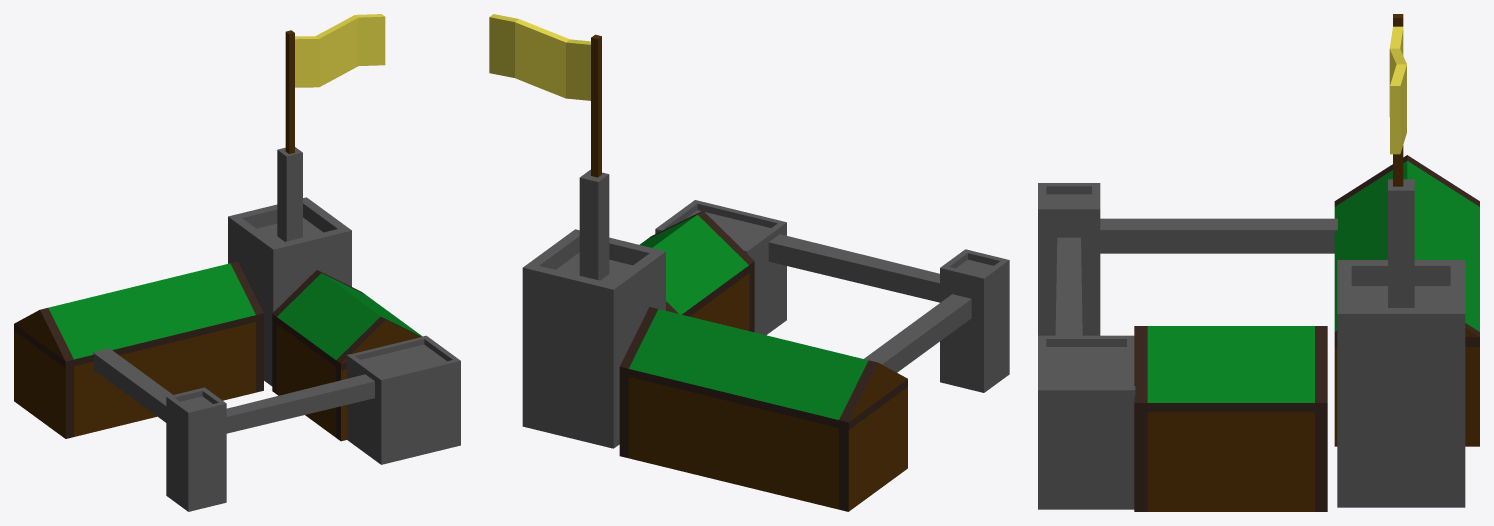
The model's file is SM_TileBarracks.fbx.
3 renders of one model, left to right at view 1: azimuth 30°, elevation 25°; view 2: azimuth 150°, elevation 25°; view 3: azimuth 270°, elevation 25°, orthographic. The views are drawn at different scales.
Visible parts, largest first — view 1: TileBarracks, TileBarracksFlag; view 2: TileBarracks, TileBarracksFlag; view 3: TileBarracks, TileBarracksFlag.
Boxes of the visible parts, box(x1,y1,x2,y2) form: TileBarracks: box(14, 147, 460, 511); TileBarracksFlag: box(285, 14, 385, 153); TileBarracks: box(522, 169, 1009, 511); TileBarracksFlag: box(489, 14, 601, 177); TileBarracks: box(1038, 155, 1479, 511); TileBarracksFlag: box(1389, 14, 1406, 186).
Size of the model in its own units: 444 by 412 by 355.
